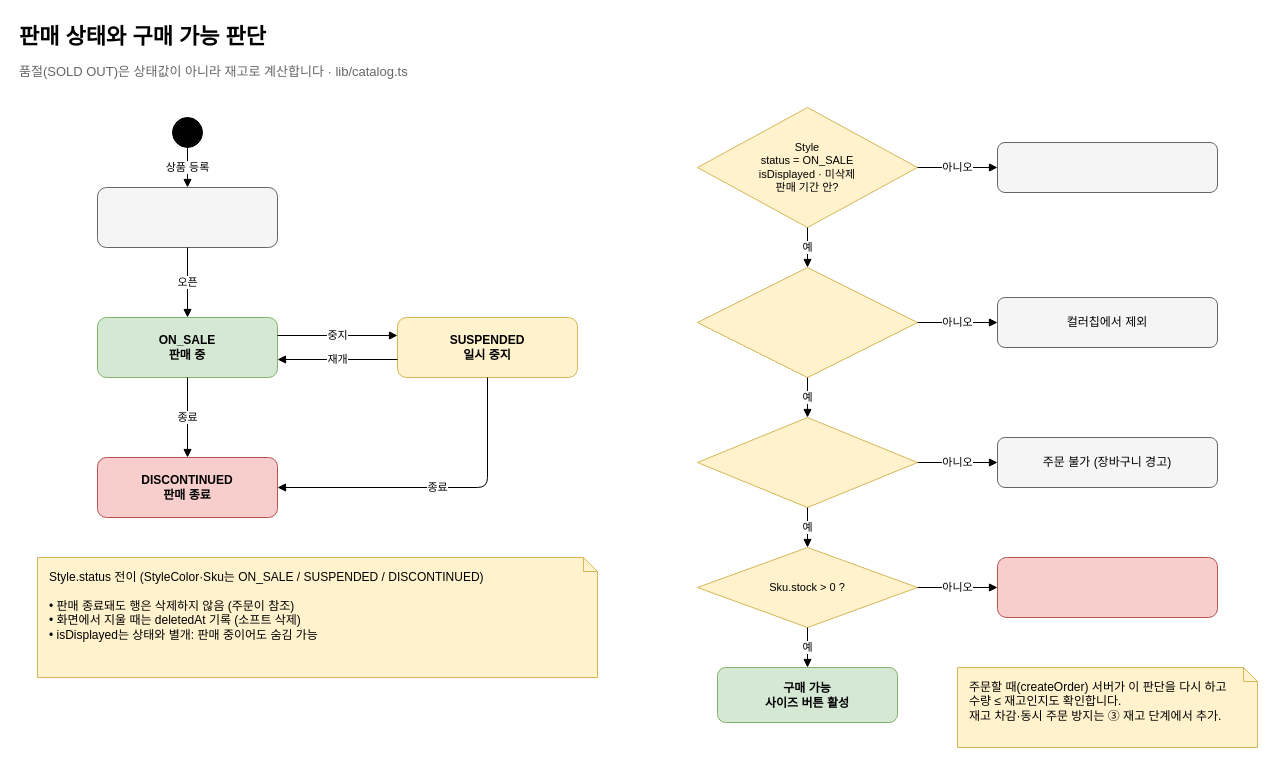
The diagram is 1275 pixels wide and 765 high, and some of its shapes have lost their labels. Each missing label, with the centre of its shape:
"DRAFT 작성 중 (고객에게 안 보임)" goes at (187,217).
"Sku status = ON_SALE?" goes at (807,462).
"StyleColor status = ON_SALE isDisplayed?" goes at (807,322).
"목록·상세에서 숨김 (404)" goes at (1107,167).
"품절 표시 사이즈 취소선 · 모든 SKU 0이면 SOLD OUT" goes at (1107,587).
